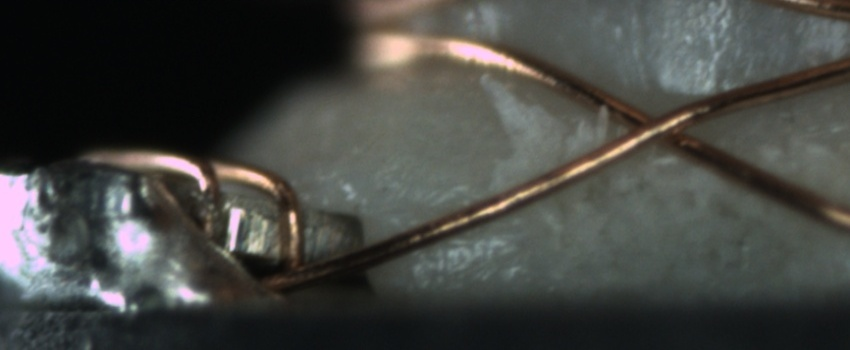CL: (604, 92, 712, 159)
TE: (72, 141, 309, 273)
